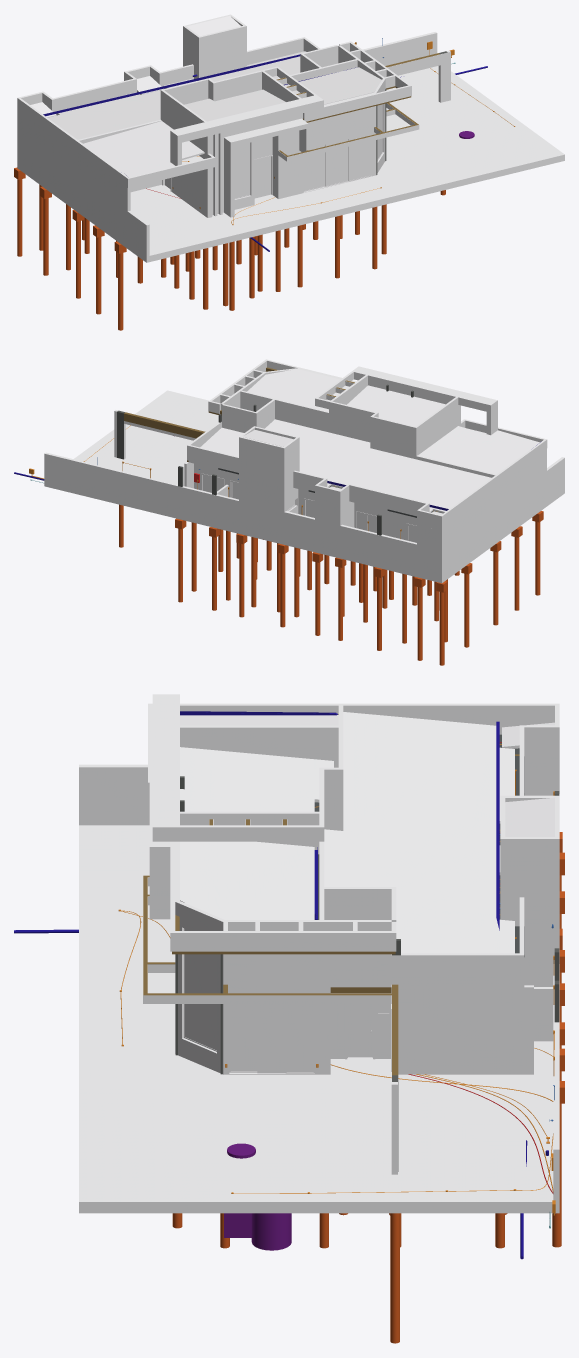
The model's file is modelo_3d.glb.
3 views of the same model, one above another, from view 1: azimuth 30°, elevation 25°; view 2: azimuth 150°, elevation 25°; view 3: azimuth 270°, elevation 25° (orthographic). The views are drawn at different scales.
Visible parts, largest first — view 1: Object_106, Object_3; view 2: Object_106, Object_3; view 3: Object_106, Object_3.
Boxes of the visible parts, left/top/right/bottom form: Object_106: left=17, top=14, right=564, bottom=262; Object_3: left=14, top=38, right=515, bottom=330; Object_106: left=44, top=359, right=564, bottom=583; Object_3: left=14, top=367, right=543, bottom=665; Object_106: left=79, top=694, right=559, bottom=1213; Object_3: left=14, top=711, right=564, bottom=1343.
Size of the model in its own units: 3096 by 1206 by 1719.
Materials: 2 (2 with a texture image).
